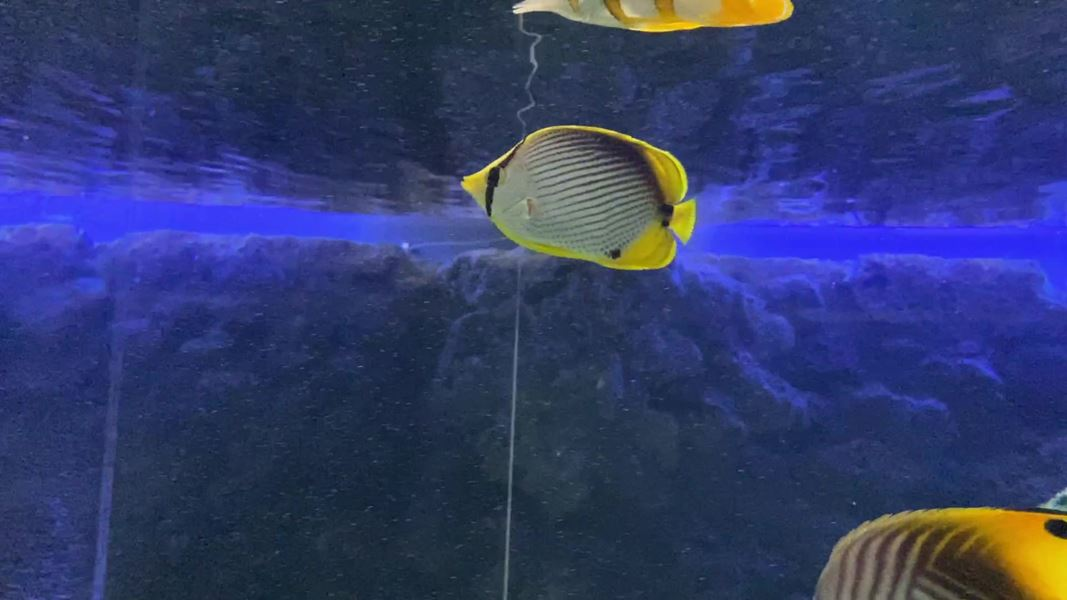Black-backed butterflyfish: (453, 116, 729, 281)
